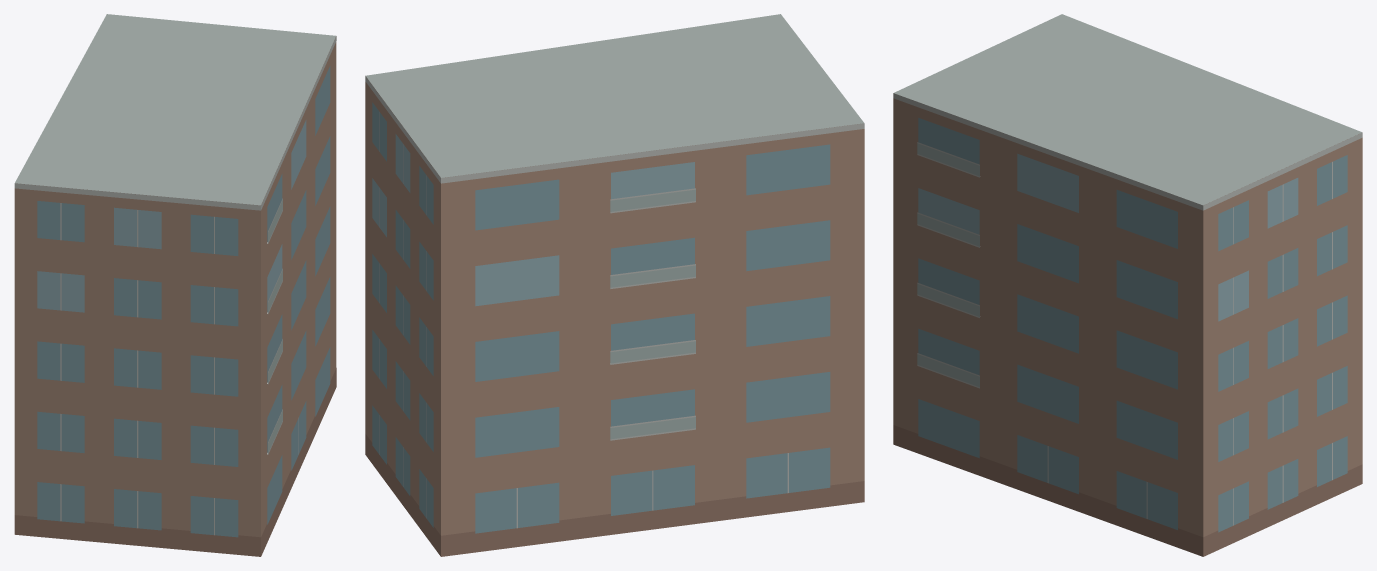
File: survey-upis-32720870.glb
3 views of the same model, side by side, from view 1: azimuth 30°, elevation 25°; view 2: azimuth 150°, elevation 25°; view 3: azimuth 270°, elevation 25° (orthographic). The views are drawn at different scales.
Parts seen in each view (by area): view 1: survey-upis-32720870.tmp; view 2: survey-upis-32720870.tmp; view 3: survey-upis-32720870.tmp.
Part boxes in pixels (bbox=[...]): survey-upis-32720870.tmp: bbox=[14, 14, 336, 556]; survey-upis-32720870.tmp: bbox=[365, 14, 864, 556]; survey-upis-32720870.tmp: bbox=[893, 14, 1362, 556].
Size of the model in its own units: 19.17 by 16.4 by 19.85.
